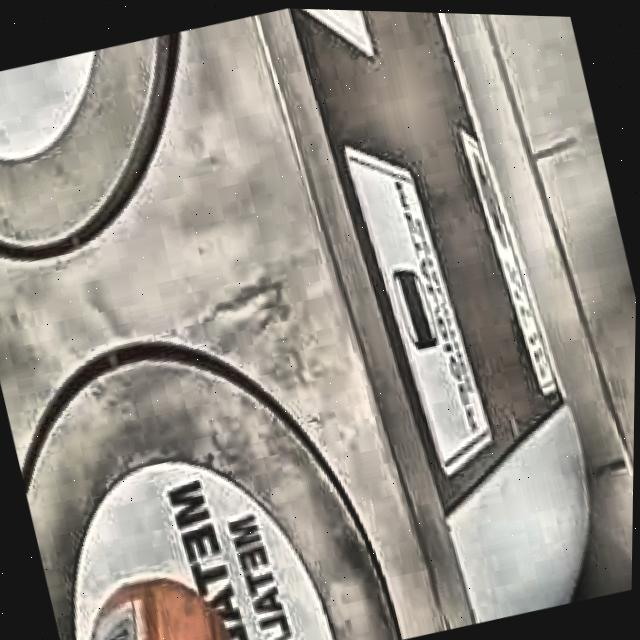metal: (94, 578, 229, 640)
